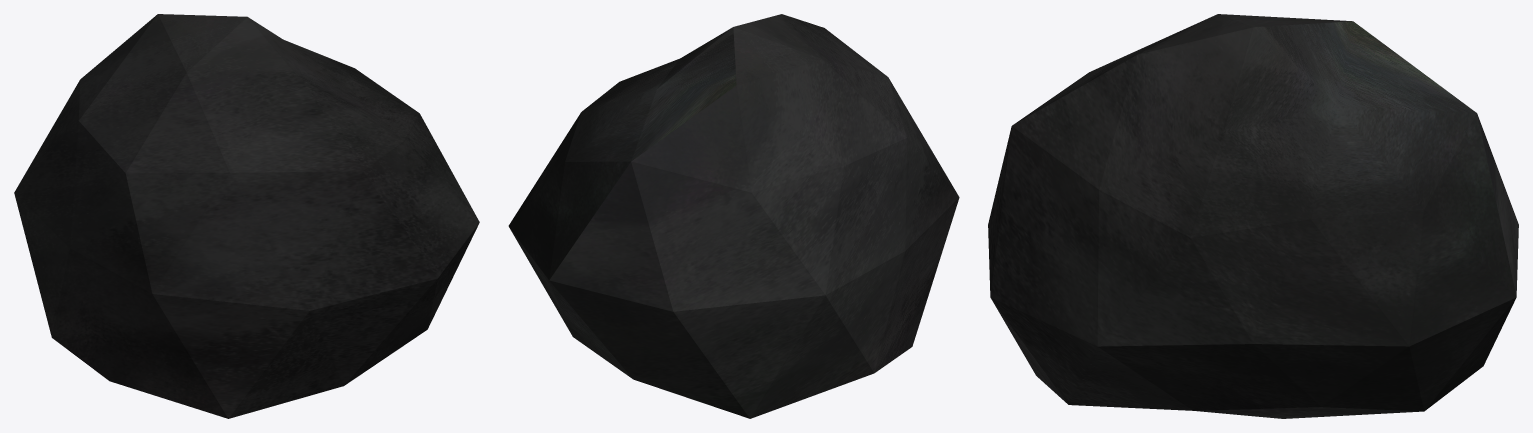
Rendered from Model_Kamień_1.fbx.
3 renders of one model, left to right at view 1: azimuth 30°, elevation 25°; view 2: azimuth 150°, elevation 25°; view 3: azimuth 270°, elevation 25°, orthographic. The views are drawn at different scales.
Visible parts, largest first — view 1: Icosphere; view 2: Icosphere; view 3: Icosphere.
Boxes of the visible parts, box(x1,y1,x2,y2) form: Icosphere: box(14, 14, 479, 418); Icosphere: box(508, 14, 959, 418); Icosphere: box(988, 14, 1518, 418).
Size of the model in its own units: 22.82 by 17.88 by 20.3.
